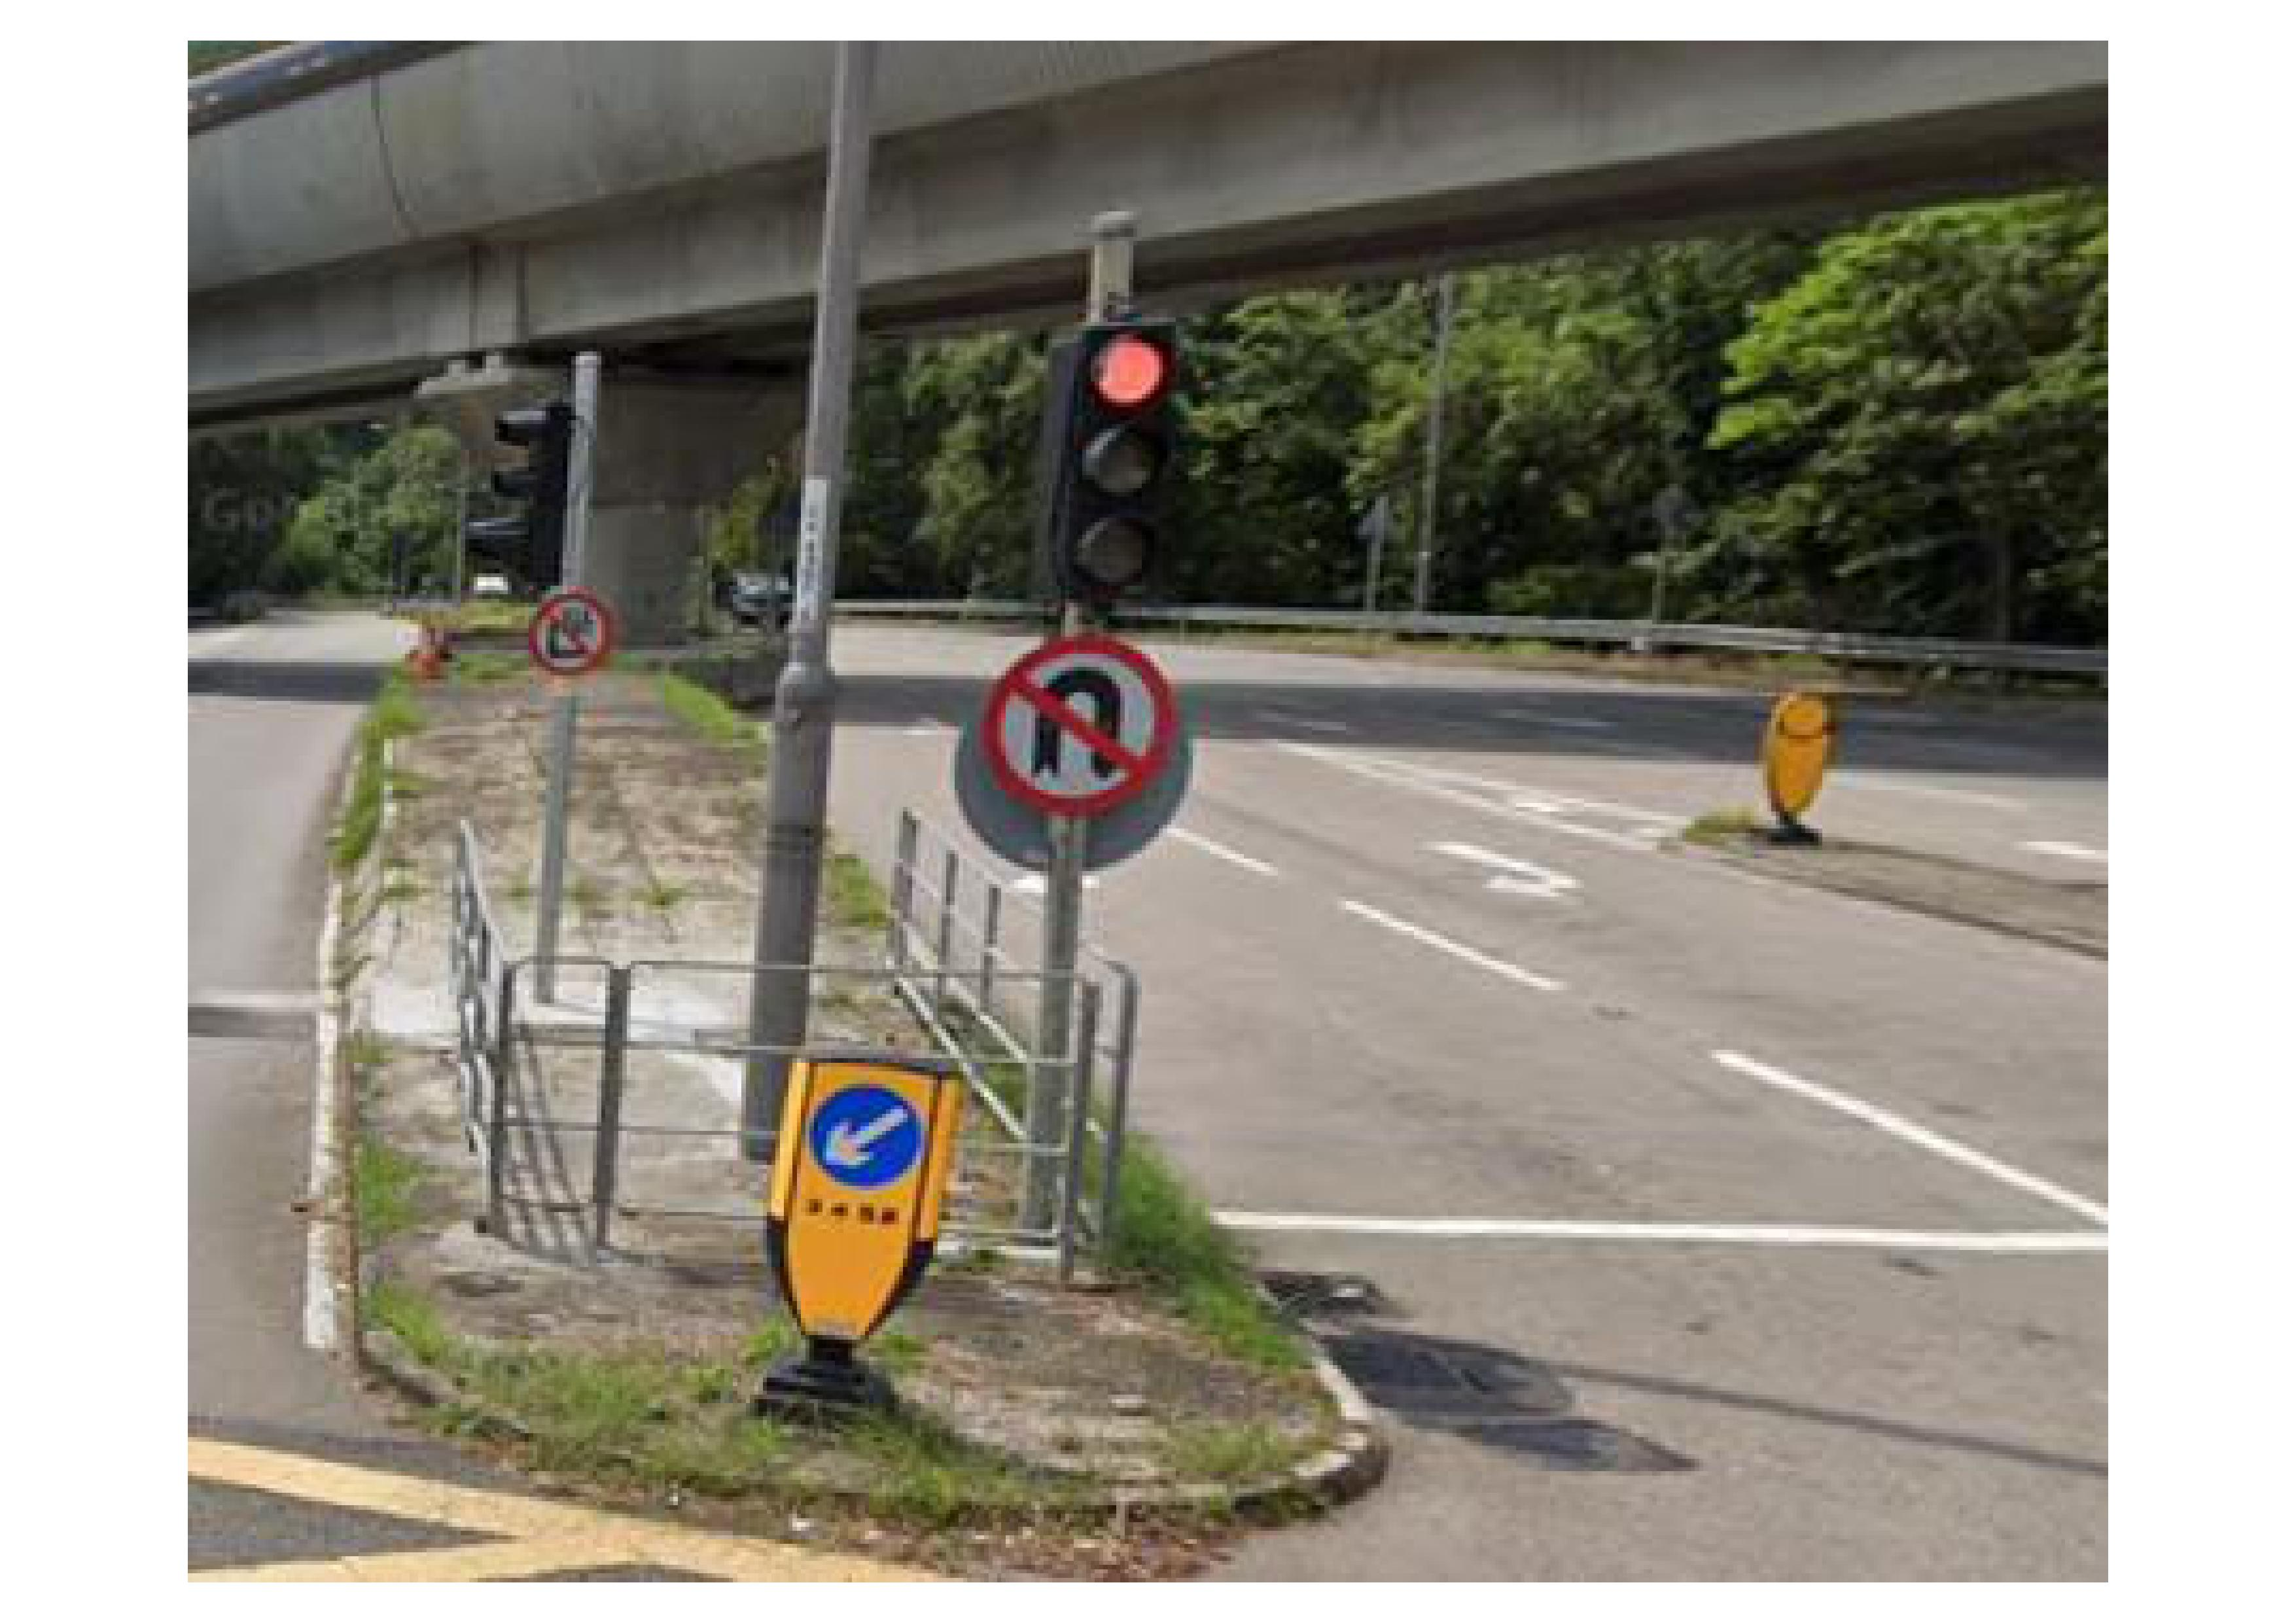No Uturn: (971, 613, 1188, 827)
